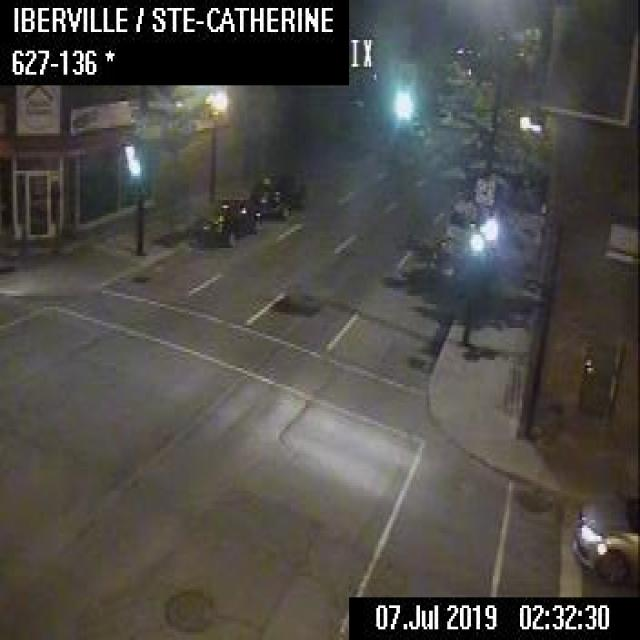vehicle: (570, 494, 638, 590), (198, 194, 262, 245), (249, 166, 306, 218), (438, 197, 476, 258)
